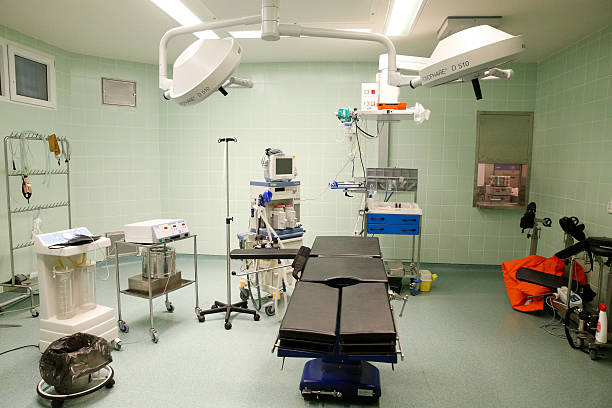bedside_monitor: (271, 154, 303, 181)
electrosurgical_unit: (123, 218, 190, 241)
handle: (401, 229, 416, 232), (370, 228, 385, 231), (401, 218, 416, 221), (371, 218, 386, 221)
iv_pole: (216, 137, 237, 306)
operating_bed: (279, 235, 397, 406)
surgical_light: (418, 23, 527, 102), (173, 37, 255, 107)
utility_cart: (115, 234, 201, 339), (361, 204, 420, 294)
waste_bin: (36, 332, 112, 408)
